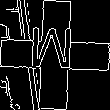M_S: (31, 29, 79, 81)
